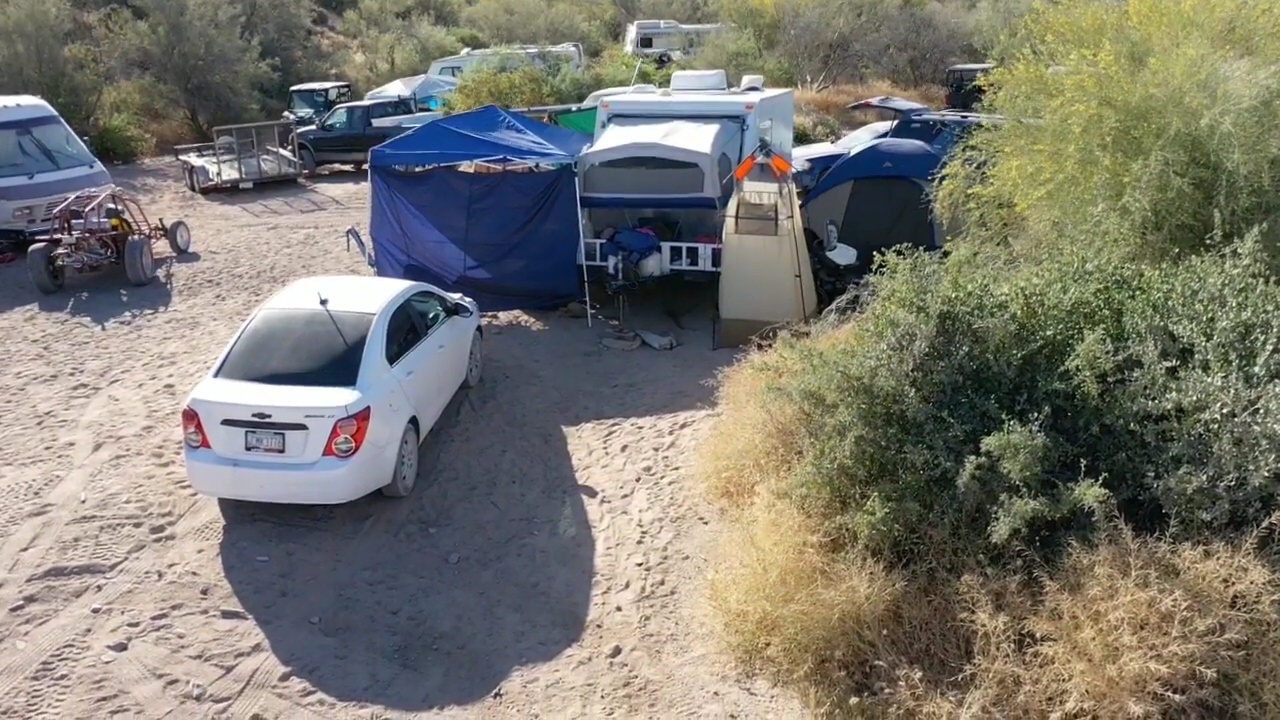araba: (179, 267, 483, 518)
kamyonet: (285, 93, 467, 179)
otobus: (1, 77, 130, 233)
